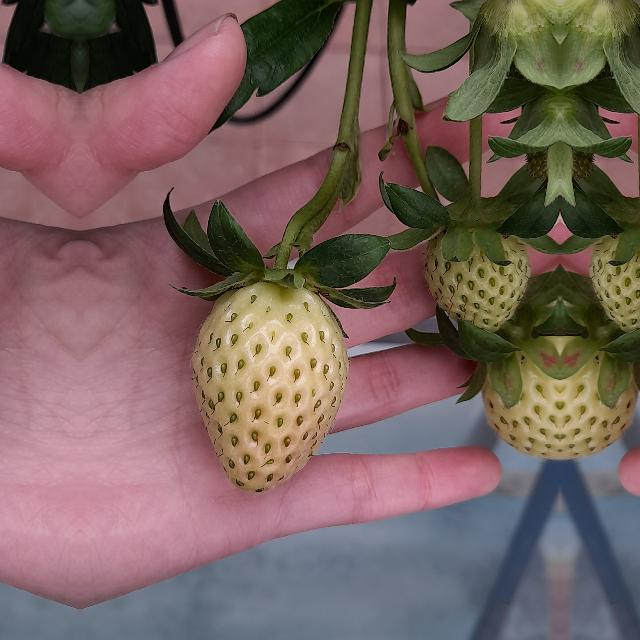Health_50: (192, 282, 348, 492)
